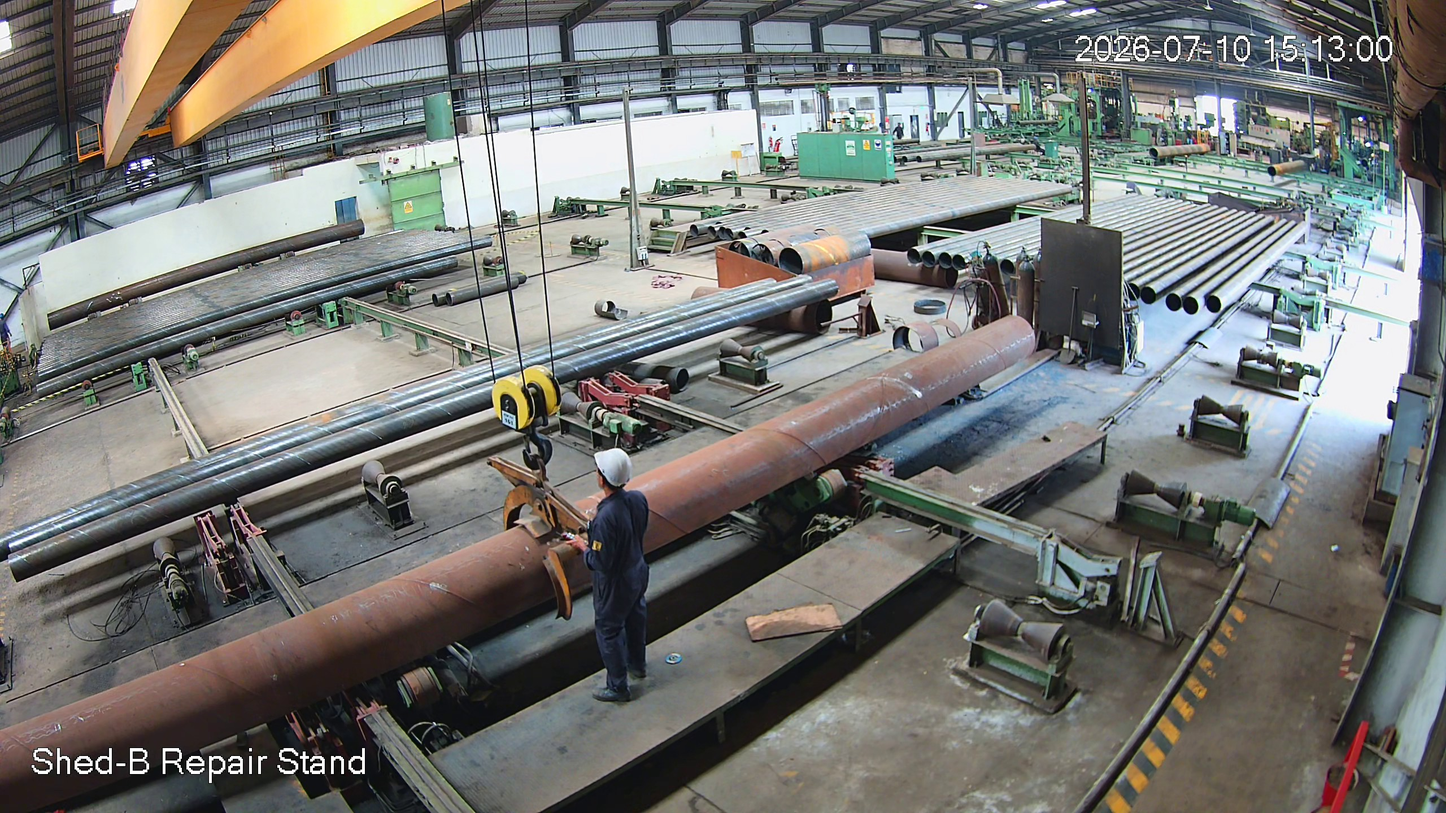Helmet: (587, 440, 647, 512)
Person: (574, 452, 662, 700)
